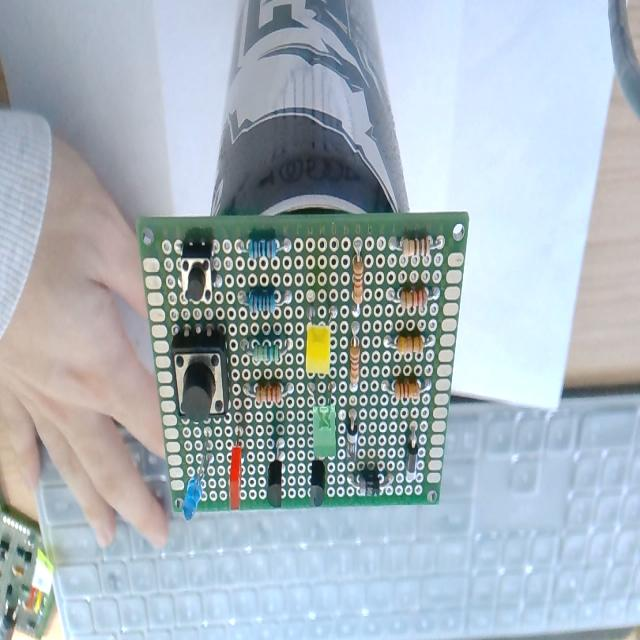diode: (339, 471, 399, 501), (401, 420, 424, 489), (344, 406, 362, 467)
led: (180, 428, 216, 526), (302, 302, 340, 380), (310, 380, 338, 460), (228, 423, 244, 518)
resistor: (238, 330, 296, 370), (233, 229, 294, 267), (386, 230, 450, 264), (348, 230, 371, 318), (376, 372, 437, 403), (384, 280, 442, 312), (236, 286, 296, 316), (240, 378, 298, 406), (346, 322, 366, 398), (383, 331, 437, 356)
switch: (166, 328, 233, 424), (175, 235, 219, 311)
transistor: (303, 454, 333, 510), (266, 436, 288, 510)
